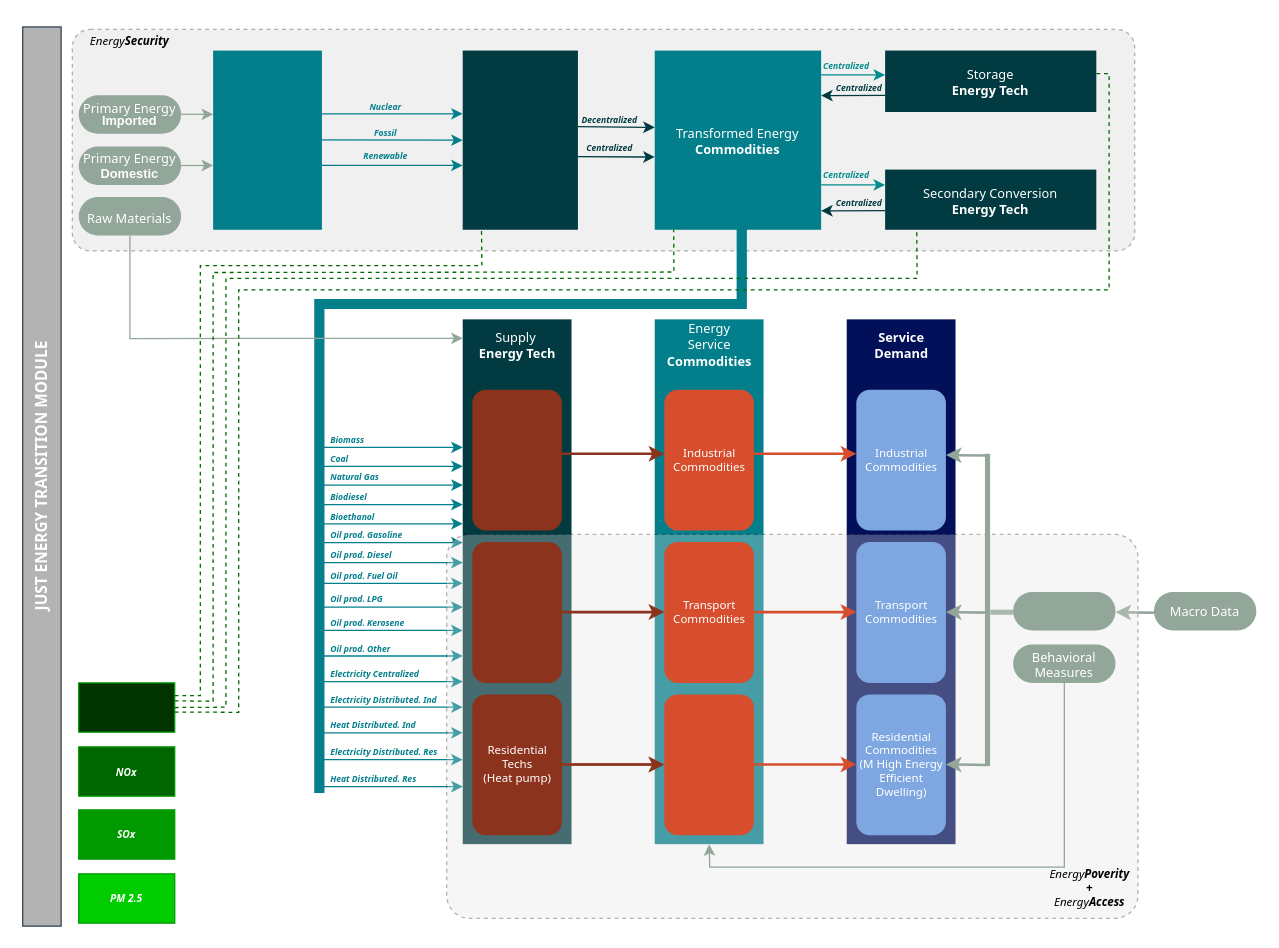
Image size: 1279x948. Some labels were removed from this diagram. The centre of each missing label's shape, as x and y in pixels:
CO2: [126,707]
Demand Characterisation: [1063,610]
Industrial Techs: [516,459]
Primary Conversion Energy Tech: [519,139]
Primary Energy Commodities: [266,139]
Residential Commodities (Space Heating): [708,764]
Transport Techs: [516,611]
